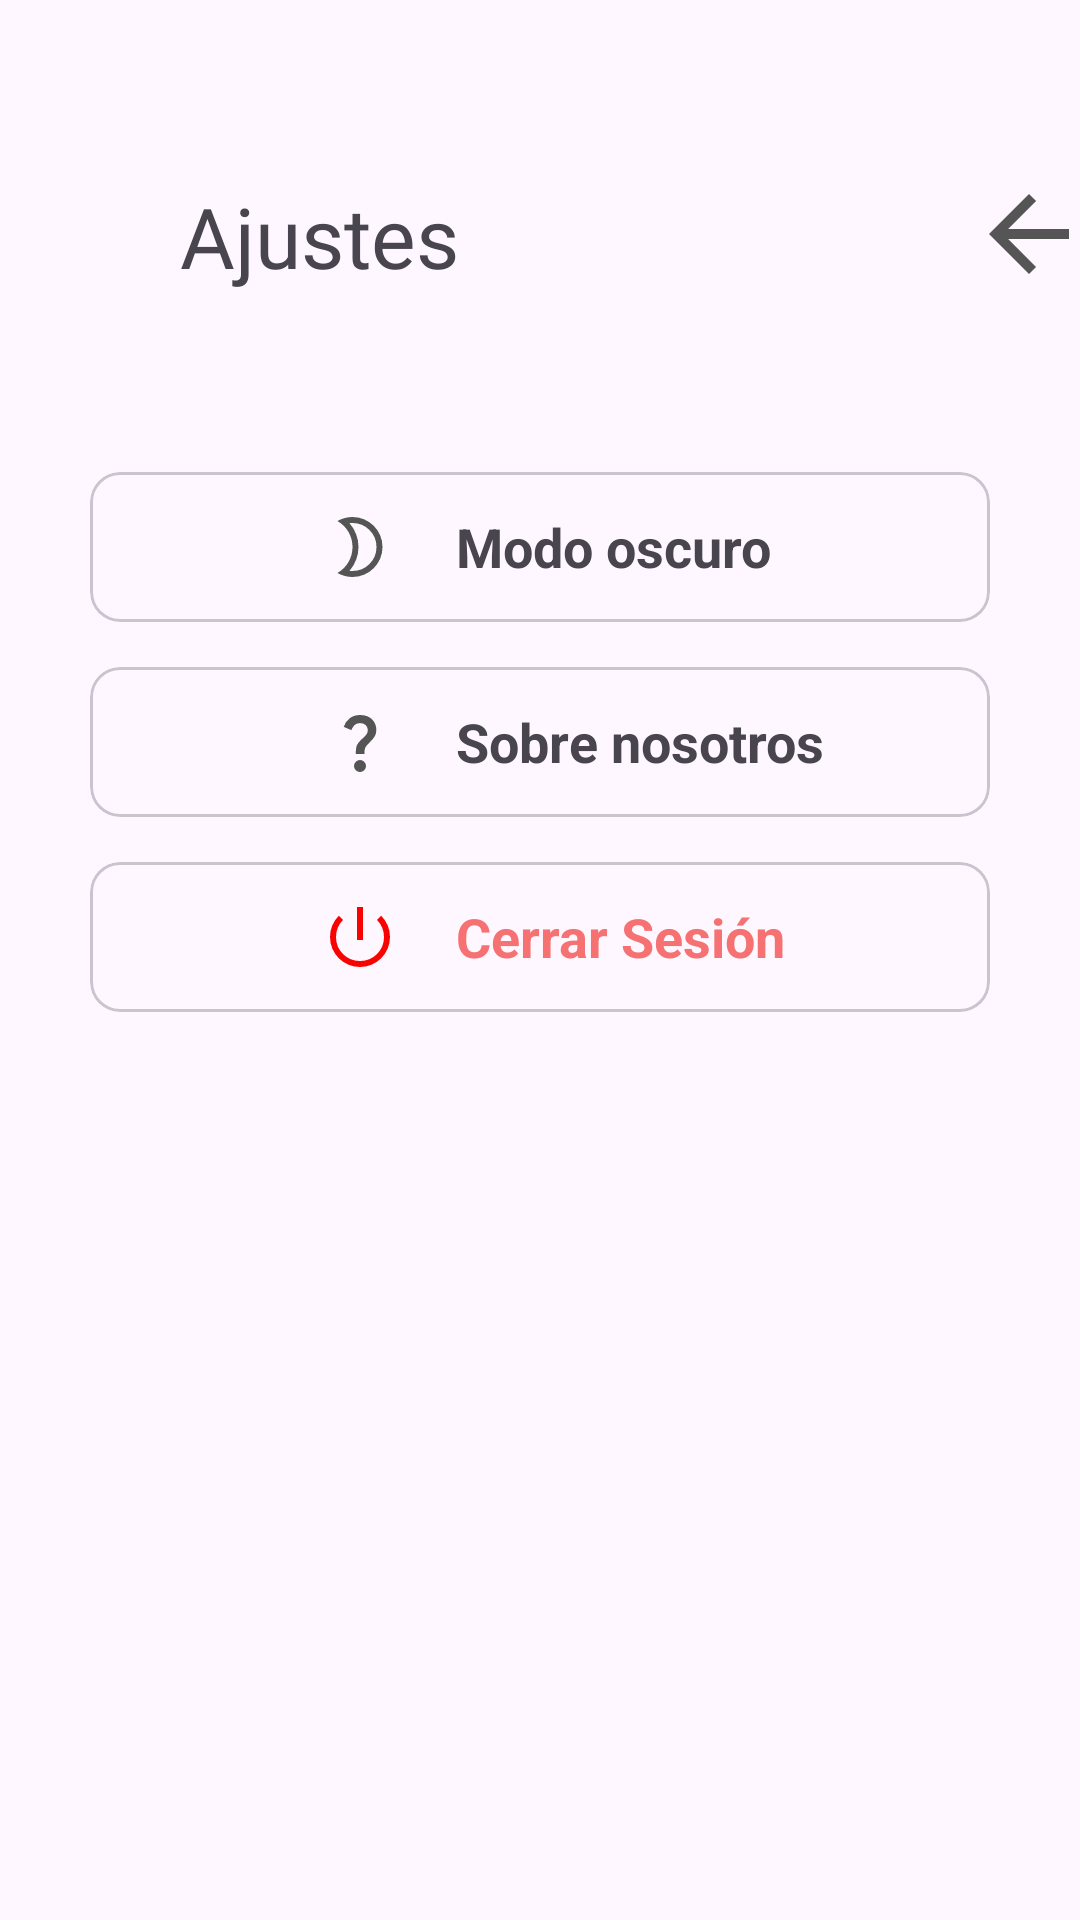

Where to tap for icons on this 1080 x 1920 app screen, as (x,y):
back window: (1029,234)
mode: (360,547)
power: (360,937)
question: (360,743)
